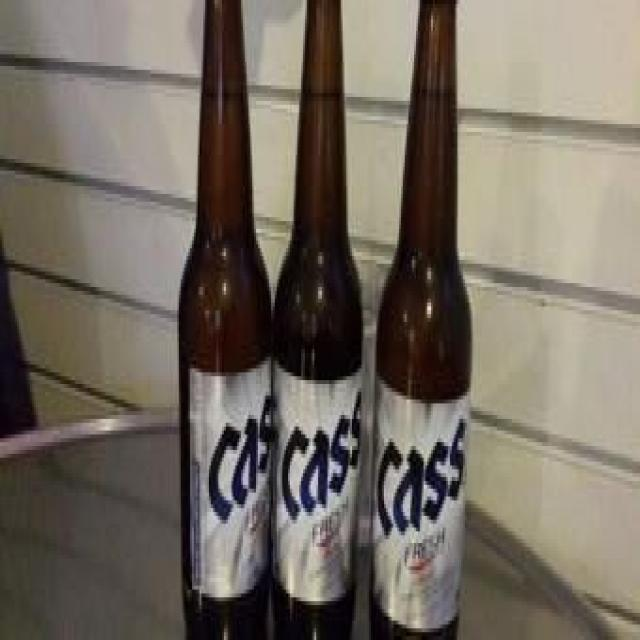beer-bottle: (358, 0, 482, 640), (173, 0, 275, 640), (272, 0, 364, 640)
